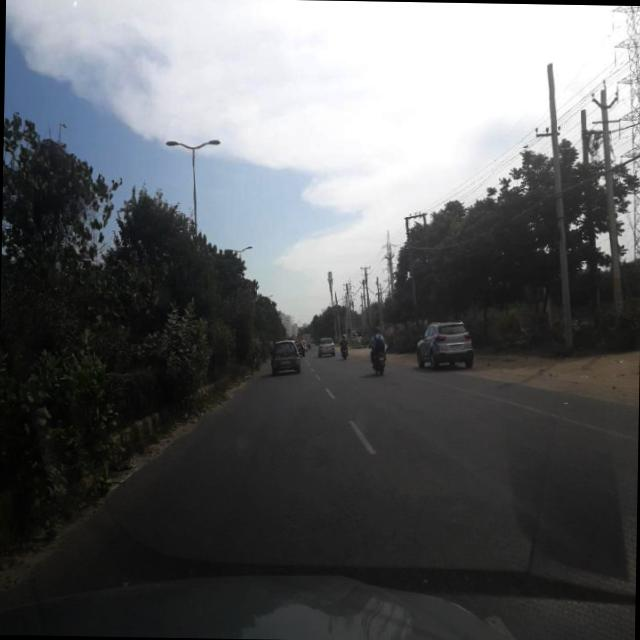crack: (85, 385, 628, 572)
